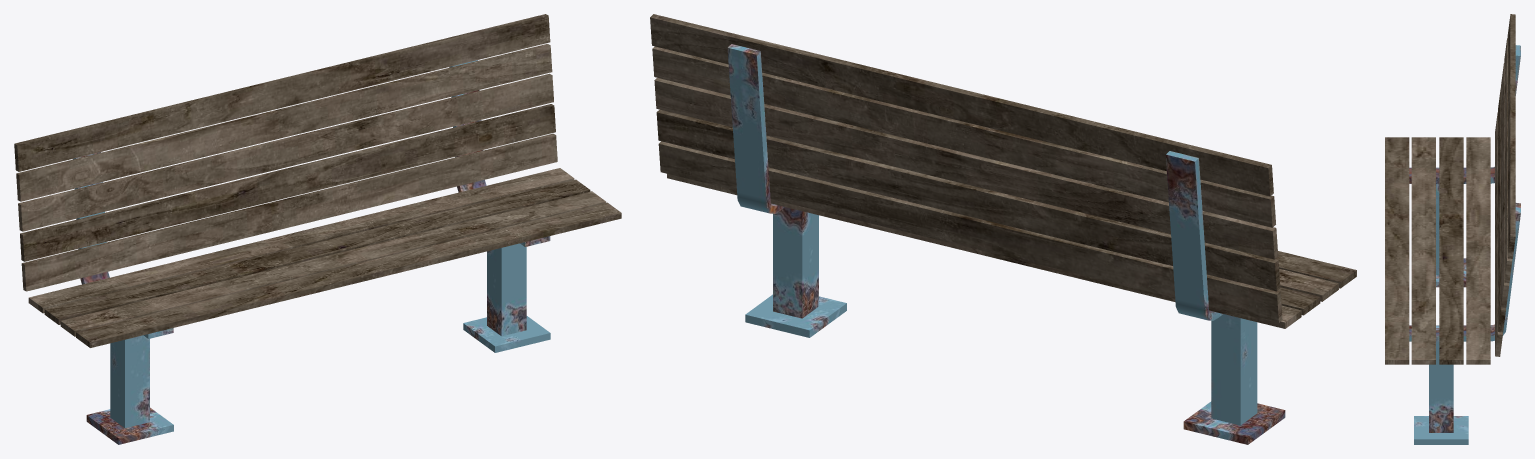
File: w_amenity_bench.gltf
3 renders of one model, left to right at view 1: azimuth 30°, elevation 25°; view 2: azimuth 150°, elevation 25°; view 3: azimuth 270°, elevation 25°, orthographic. The views are drawn at different scales.
Visible parts, largest first — view 1: bench; view 2: bench; view 3: bench.
Part boxes in pixels (left/top/right/bottom): bench: left=14, top=14, right=621, bottom=444; bench: left=650, top=14, right=1356, bottom=444; bench: left=1385, top=14, right=1520, bottom=444.
Bounding box in the file's own units: 1.51 × 0.7326 × 0.3899.
Materials: 1 (1 with a texture image).
